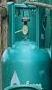cylinder: (1, 1, 52, 90)
